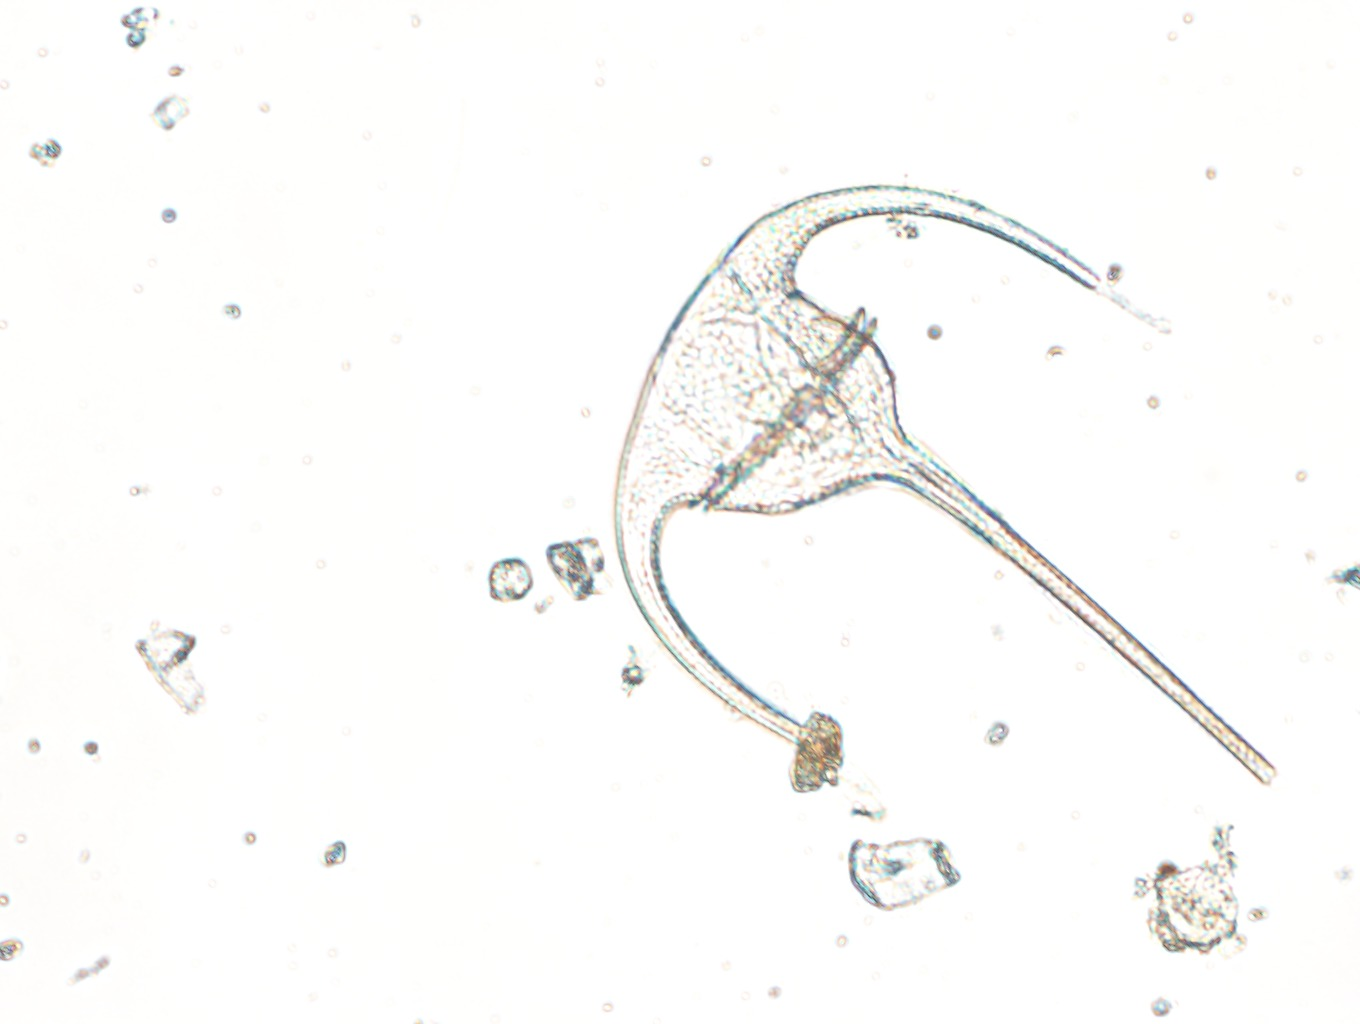ceratium tripos: (615, 182, 1277, 787)
